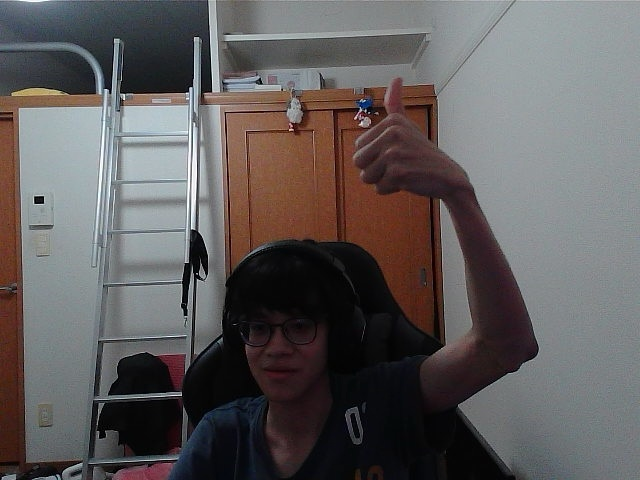thumb_up: (360, 93, 445, 188)
